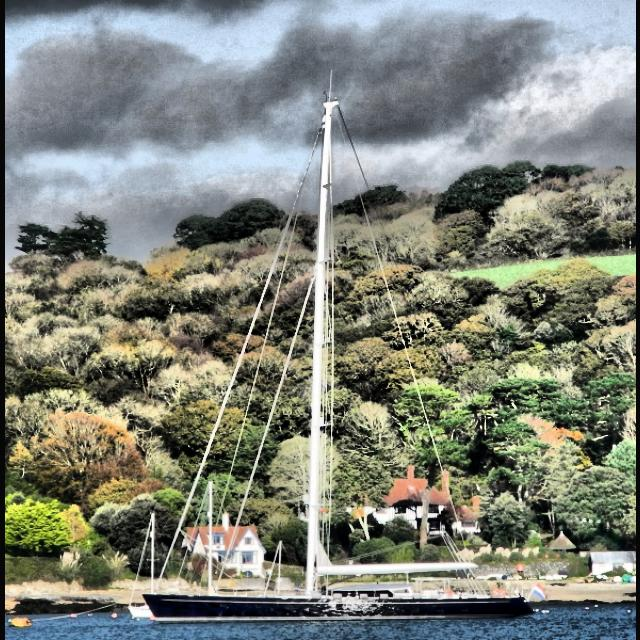sailing_vessel: (141, 99, 534, 624)
